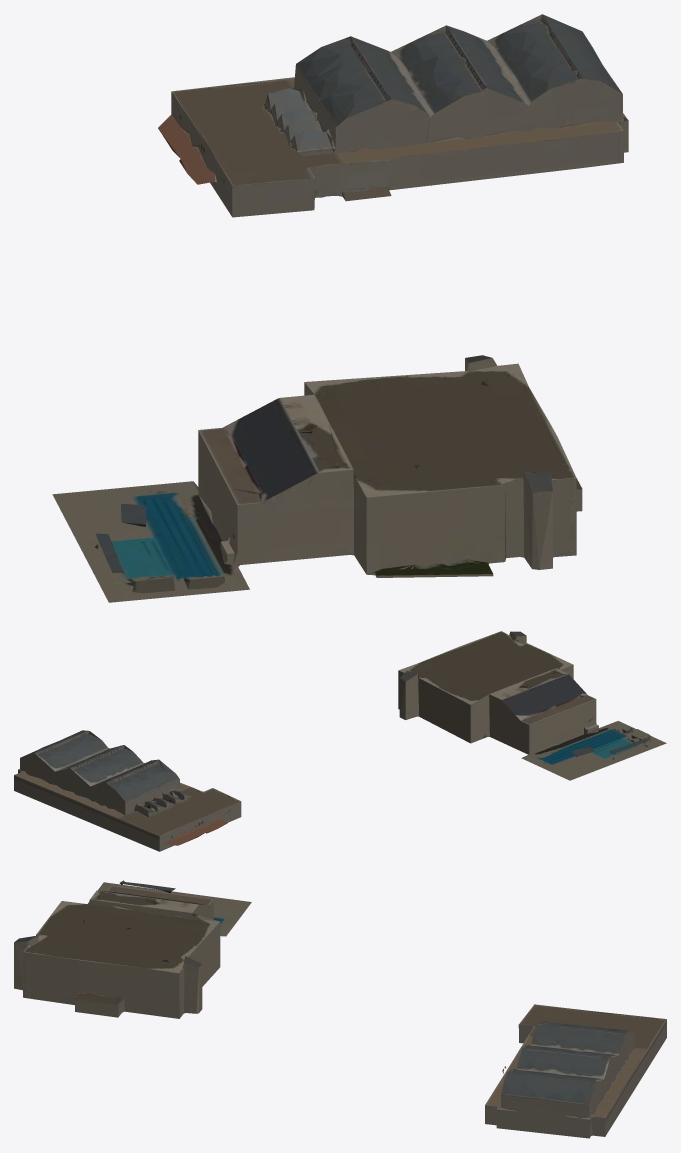
Rendered from t_2_2.coat.glb.
3 views of the same model, one above another, from view 1: azimuth 30°, elevation 25°; view 2: azimuth 150°, elevation 25°; view 3: azimuth 270°, elevation 25° (orthographic). The views are drawn at different scales.
Visible parts, largest first — view 1: far; view 2: far; view 3: far.
Boxes of the visible parts, x1,y1,x2,y2 form: far: [52, 14, 628, 602]; far: [14, 631, 666, 851]; far: [14, 880, 666, 1138].
Bounding box in the file's own units: 249 × 23.16 × 269.
Materials: 1 (1 with a texture image).
